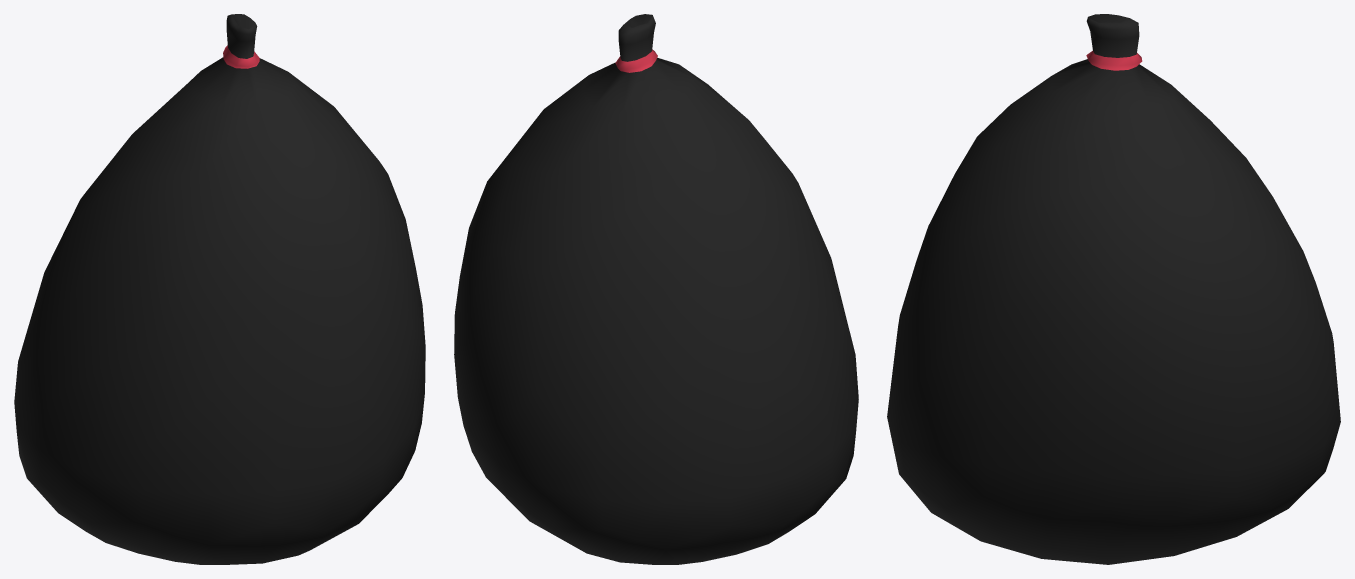
Rendered from bag_02.fbx.
The picture shows the model from 3 angles, left to right: view 1: azimuth 30°, elevation 25°; view 2: azimuth 150°, elevation 25°; view 3: azimuth 270°, elevation 25°; orthographic projection. The views are drawn at different scales.
Parts seen in each view (by area): view 1: Icosphere; view 2: Icosphere; view 3: Icosphere.
Boxes of the visible parts, x1,y1,x2,y2 form: Icosphere: (14,14,425,564); Icosphere: (454,14,858,564); Icosphere: (887,14,1340,564).
Bounding box in the file's own units: 85.78 × 118 × 89.6.
Materials: 2 (2 with a texture image).
